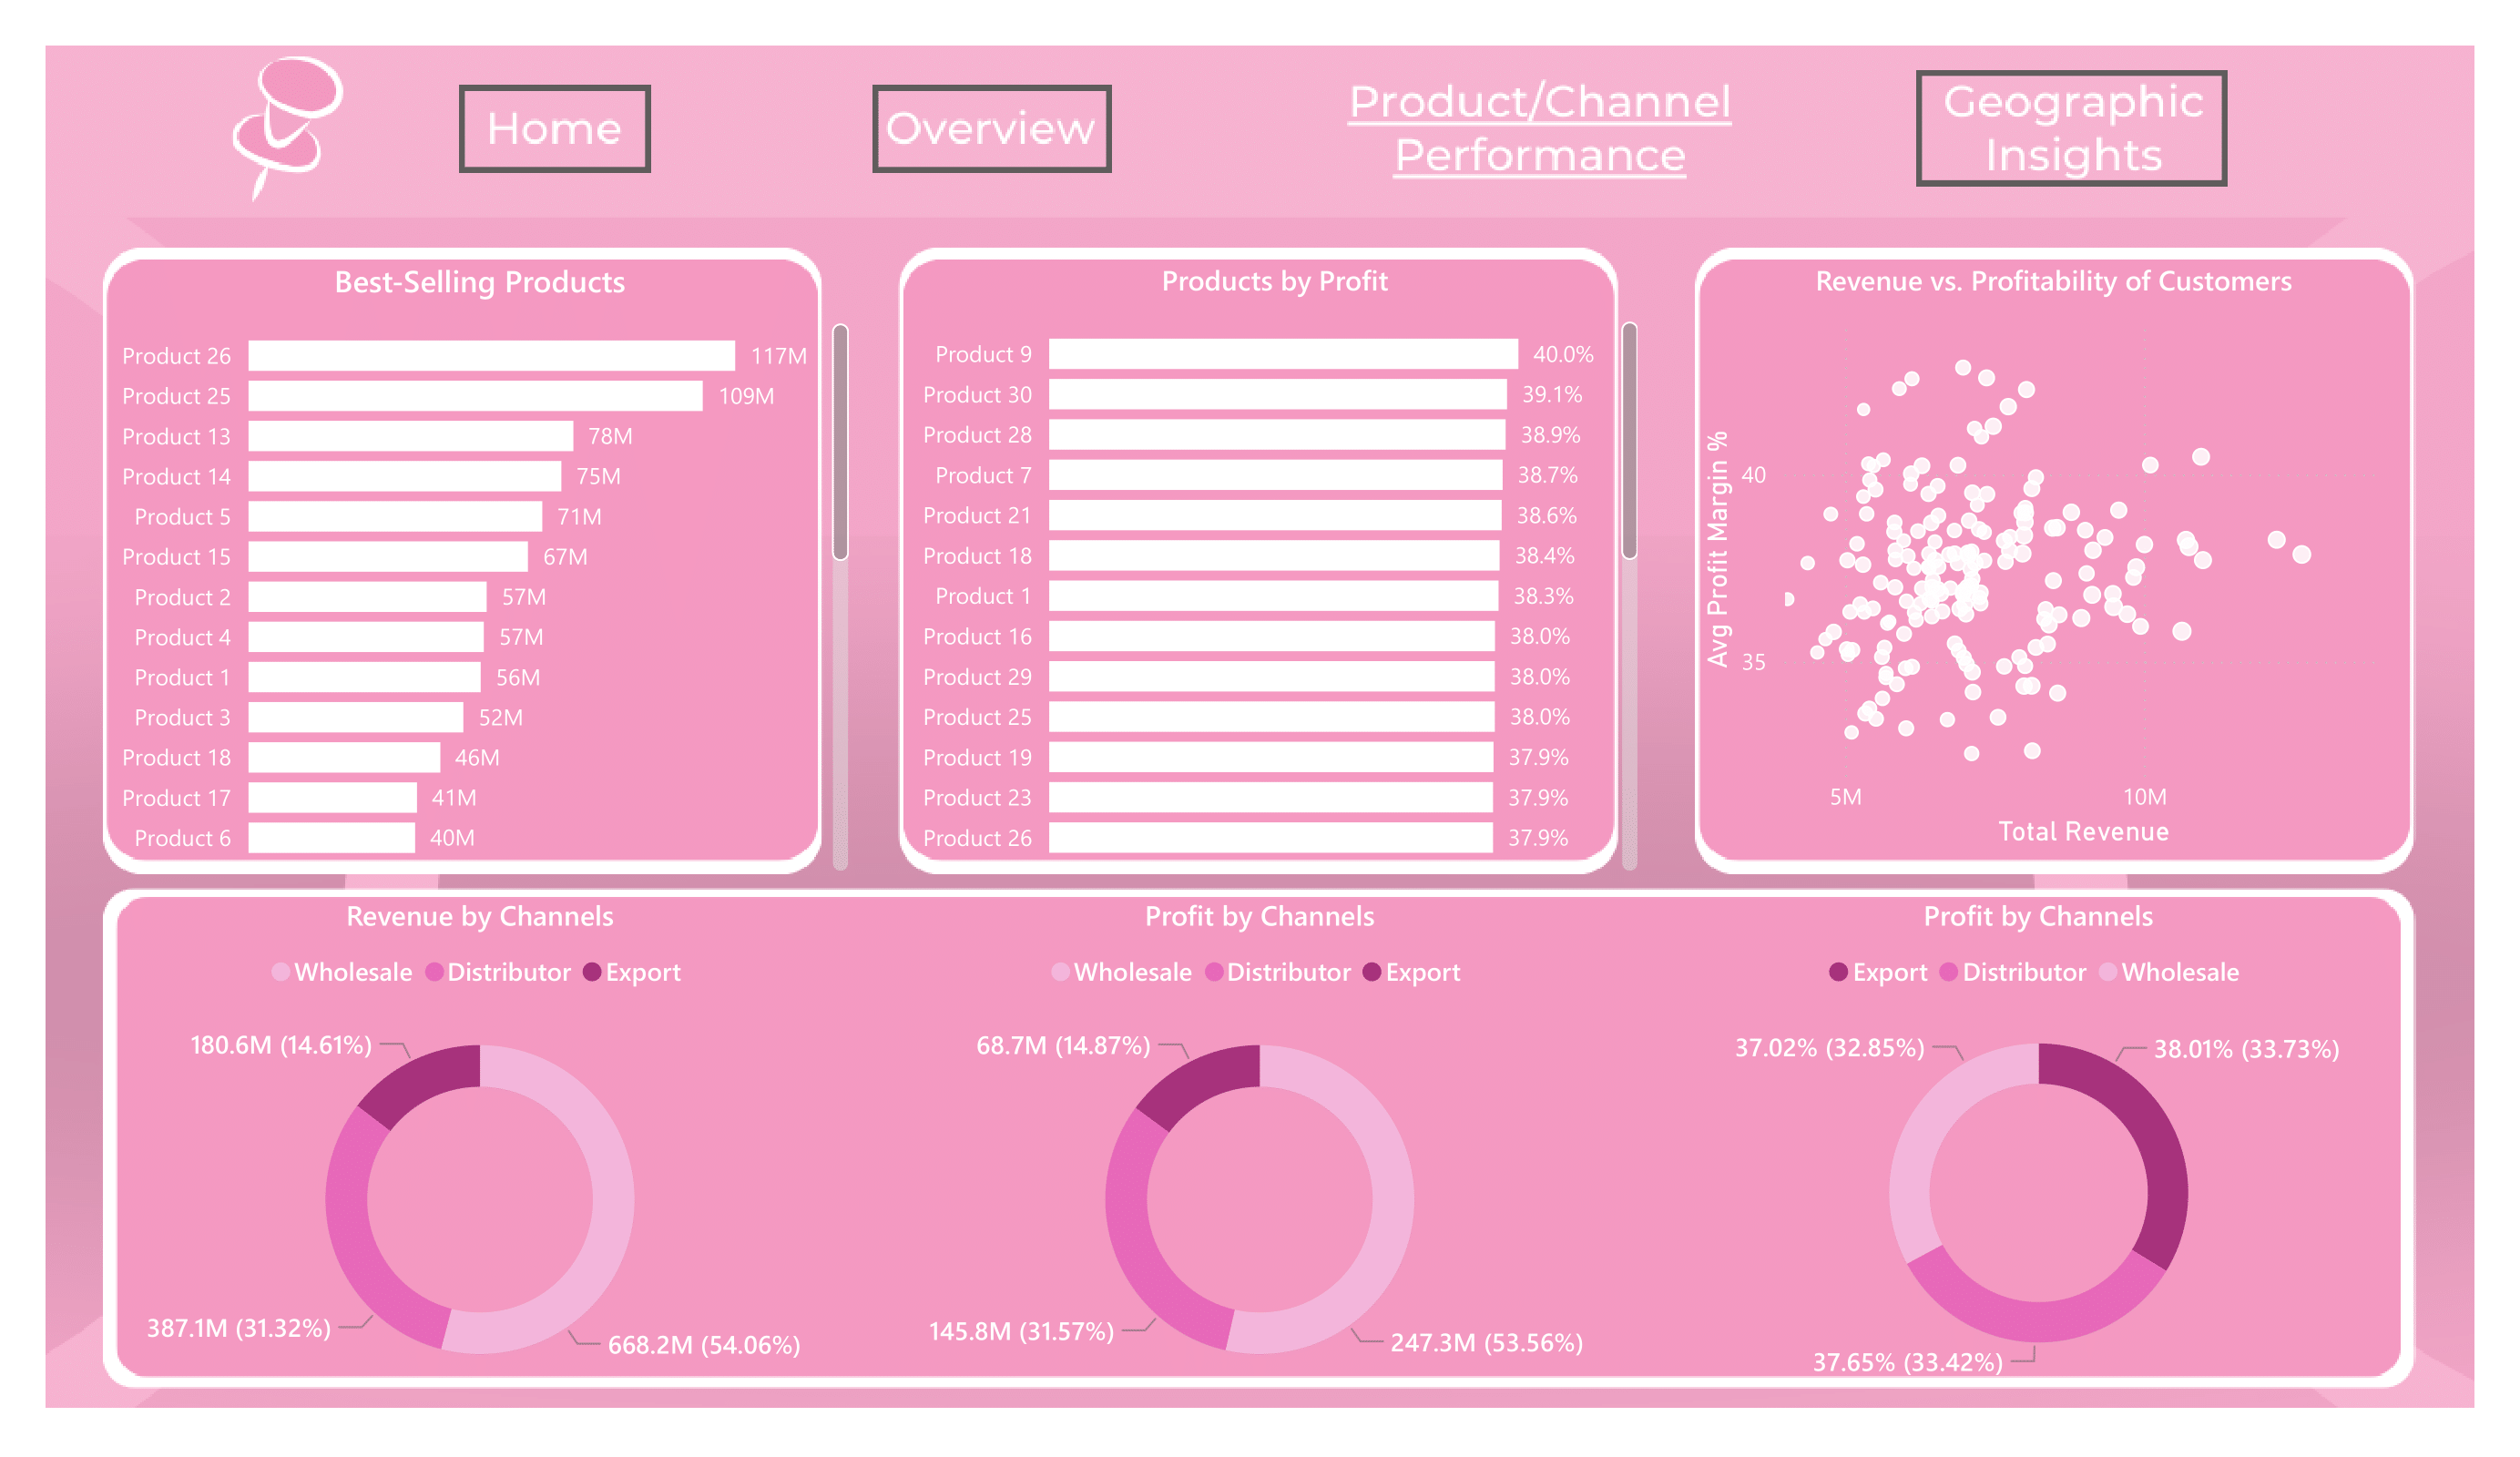

The page's visual inventory and layout, read from the dashboard file:
{"tool":"powerbi","page":{"name":"Product/Channel Performance","canvas":[1280,720],"ordinal":2},"visuals":[{"type":"barChart","title":"Best-Selling Products","fields":{"Y":["Custom Measures.Total Revenue"],"Category":["sales_data.product_name"]},"box":[30,113,398,327],"z":0},{"type":"barChart","title":"Products by Profit","fields":{"Category":["sales_data.product_name"],"Y":["Custom Measures.Profit Margin %"]},"box":[452,113,392,327],"z":1000},{"type":"scatterChart","title":"Revenue vs. Profitability of Customers","fields":{"X":["Customer Summary.Total Revenue"],"Y":["Customer Summary.Avg Profit Margin %"],"Size":["Sum(Customer Summary.Order Count)"]},"box":[867.8,113.3,381.1,313.3],"z":2000},{"type":"donutChart","title":"Revenue by Channels","fields":{"Y":["Custom Measures.Total Revenue"],"Category":["sales_data.channel"]},"box":[25,448,408,272],"z":3000},{"type":"donutChart","title":"Profit by Channels","fields":{"Y":["Custom Measures.Total Profit"],"Category":["sales_data.channel"]},"box":[436,448,408,272],"z":4000},{"type":"donutChart","title":"Profit by Channels","fields":{"Category":["sales_data.channel"],"Y":["Custom Measures.Profit Margin %"]},"box":[852,448,397,265],"z":5000},{"type":"actionButton","box":[217.8,21.1,101.1,45.6],"z":6000},{"type":"actionButton","box":[435.6,21.1,126.7,45.6],"z":7000},{"type":"actionButton","box":[985.6,13.3,164.4,61.1],"z":8000}]}

Visuals, with their boxes on the page's 1280x720 design canvas (x1, y1, x2, y2). These are canvas units, not pixel positions in the 2520x1457 screenshot, which may show the page scaled, cropped or inside an application window:
"Best-Selling Products" barChart: box=[30, 113, 428, 440]
"Products by Profit" barChart: box=[452, 113, 844, 440]
"Revenue vs. Profitability of Customers" scatterChart: box=[868, 113, 1249, 427]
"Revenue by Channels" donutChart: box=[25, 448, 433, 720]
"Profit by Channels" donutChart: box=[436, 448, 844, 720]
"Profit by Channels" donutChart: box=[852, 448, 1249, 713]
actionButton: box=[218, 21, 319, 67]
actionButton: box=[436, 21, 562, 67]
actionButton: box=[986, 13, 1150, 74]
